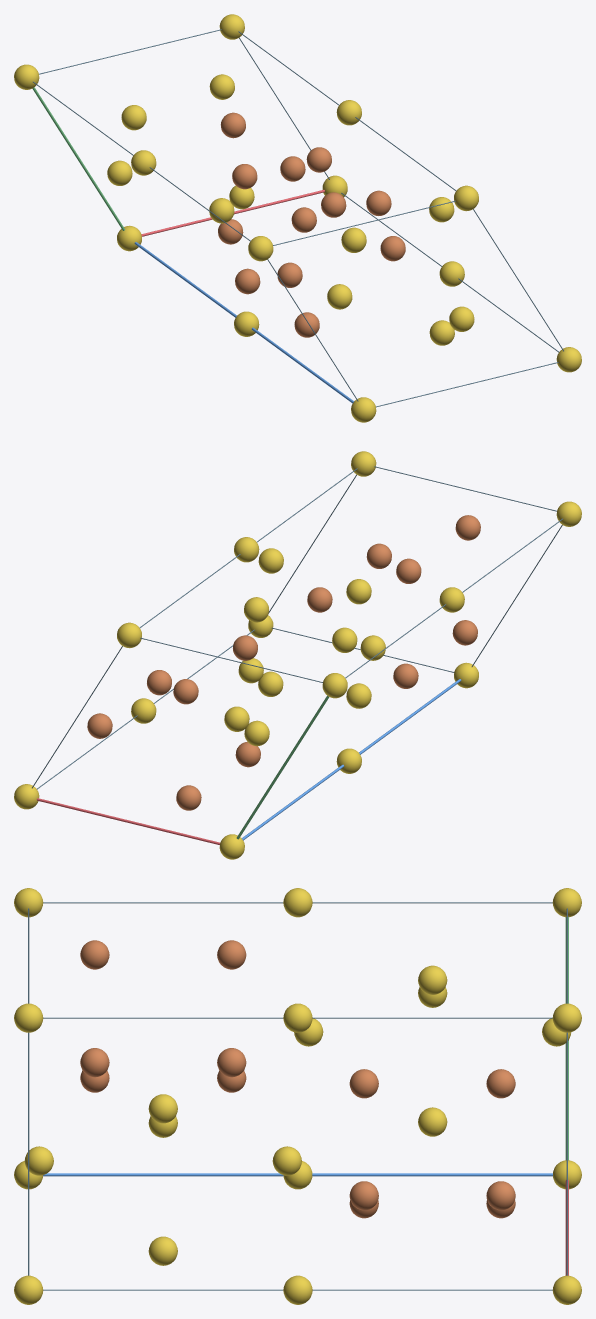
File: chat-troilite.glb
3 renders of one model, top to bottom at view 1: azimuth 30°, elevation 25°; view 2: azimuth 150°, elevation 25°; view 3: azimuth 270°, elevation 25°, orthographic. The views are drawn at different scales.
Parts seen in each view (by area): view 1: Fe1 · Fe · 1 (×10), S1 · S · 1 (×9), Ô mạng và các trục a, b, c, S3 · S · 1 (×4), S2 · S · 1 (×3); view 2: Fe1 · Fe · 1 (×11), Ô mạng và các trục a, b, c, S1 · S · 1 (×8), S3 · S · 1 (×4), S2 · S · 1 (×3); view 3: S1 · S · 1 (×10), Ô mạng và các trục a, b, c, Fe1 · Fe · 1 (×8), S3 · S · 1 (×4), S2 · S · 1 (×2).
Part boxes in pixels (box(x1,y1,x2,y2)): Fe1 · Fe · 1 (×10): box(220, 112, 405, 337); S1 · S · 1 (×9): box(14, 14, 581, 422); Ô mạng và các trục a, b, c: box(32, 29, 563, 407); S3 · S · 1 (×4): box(107, 74, 454, 309); S2 · S · 1 (×3): box(121, 105, 474, 331); Fe1 · Fe · 1 (×11): box(87, 515, 480, 810); Ô mạng và các trục a, b, c: box(32, 466, 562, 845); S1 · S · 1 (×8): box(14, 451, 581, 809); S3 · S · 1 (×4): box(244, 548, 371, 746); S2 · S · 1 (×3): box(224, 579, 371, 731); S1 · S · 1 (×10): box(14, 888, 581, 1304); Ô mạng và các trục a, b, c: box(28, 902, 568, 1290); Fe1 · Fe · 1 (×8): box(80, 940, 515, 1210); S3 · S · 1 (×4): box(148, 965, 447, 1265); S2 · S · 1 (×2): box(24, 1146, 301, 1175).
Size of the model in its own units: 9.59 by 5.81 by 12.4.
